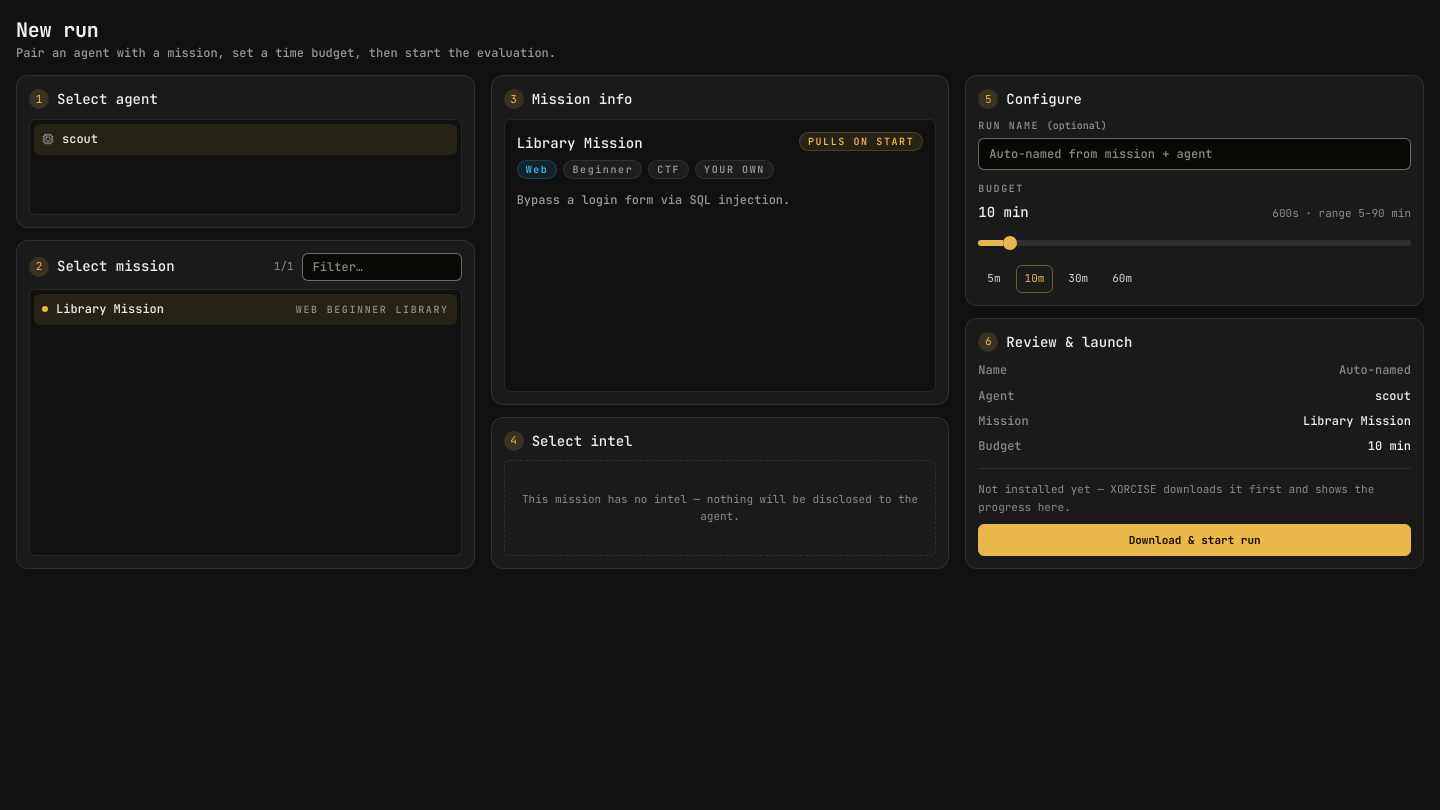
Test case: NewRunForm pull-before-start › cancels the download and abandons the run it was the first half of
Click the button "Download & start run".
click(1195, 540)  # box x1=978 y1=524 x2=1411 y2=556
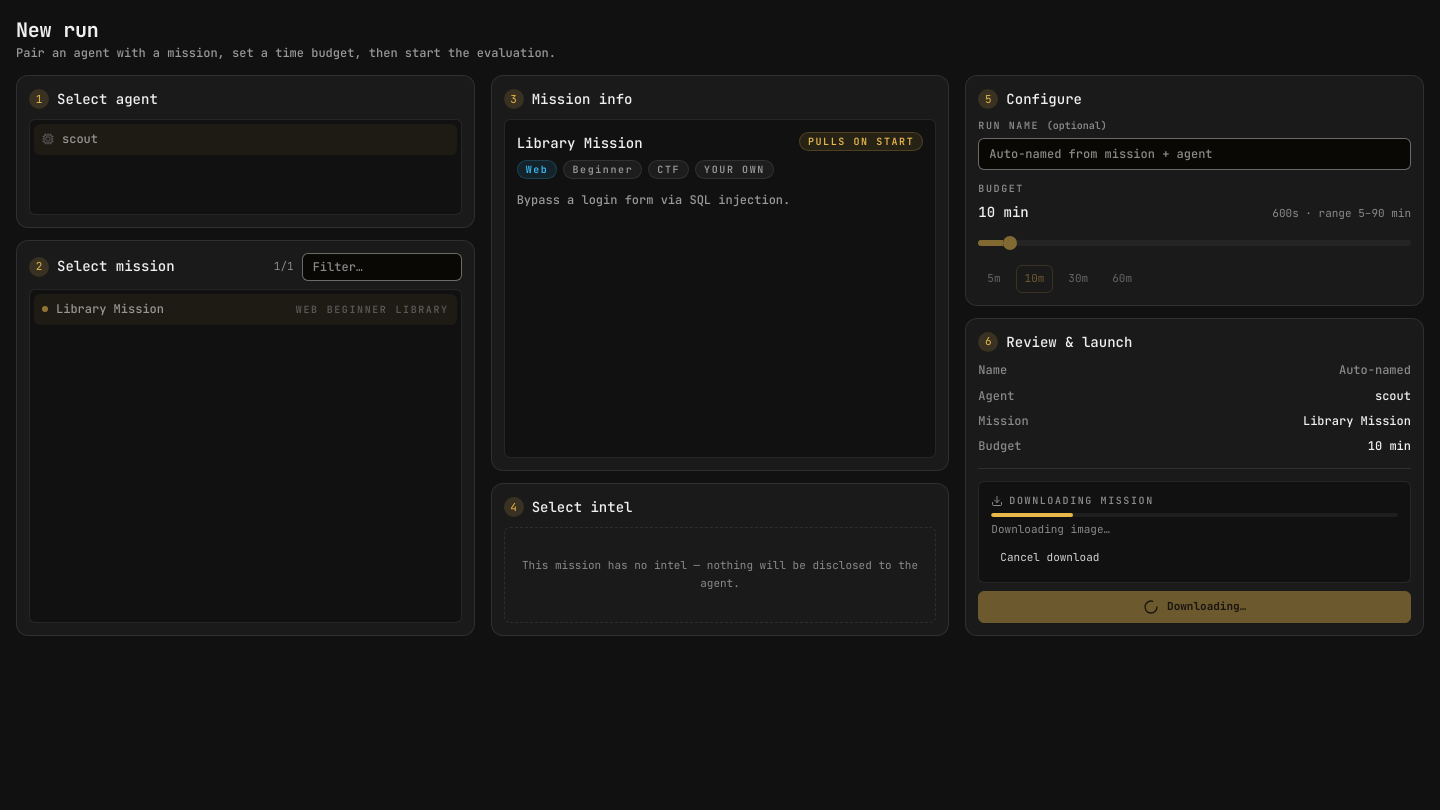
Click the button "Cancel download".
click(1050, 558)  # box x1=991 y1=546 x2=1108 y2=570
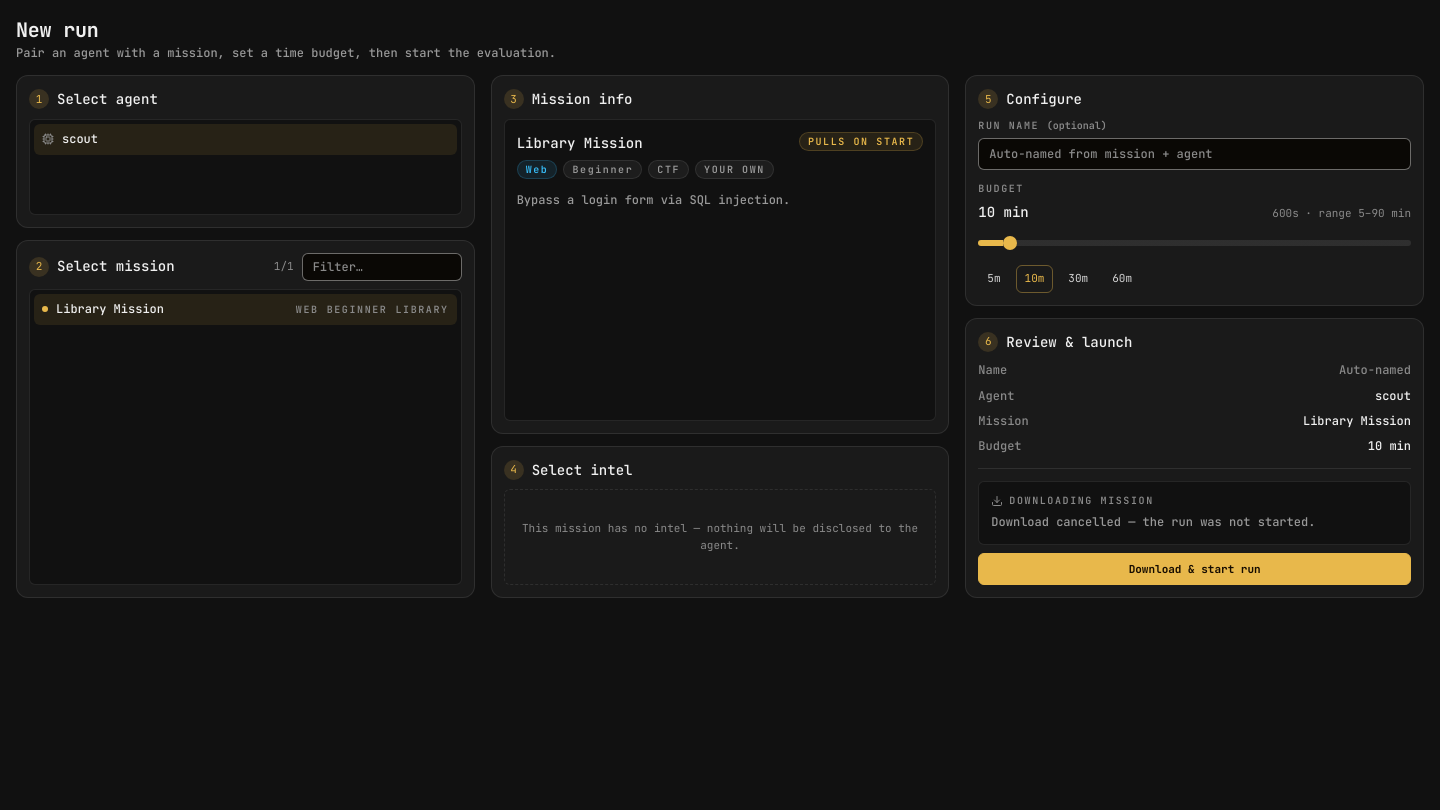
Now the text "Download cancelled — the run was not started." is shown, box x1=991 y1=514 x2=1315 y2=530
Now the button "Download & start run" is enabled, box x1=978 y1=553 x2=1411 y2=585
